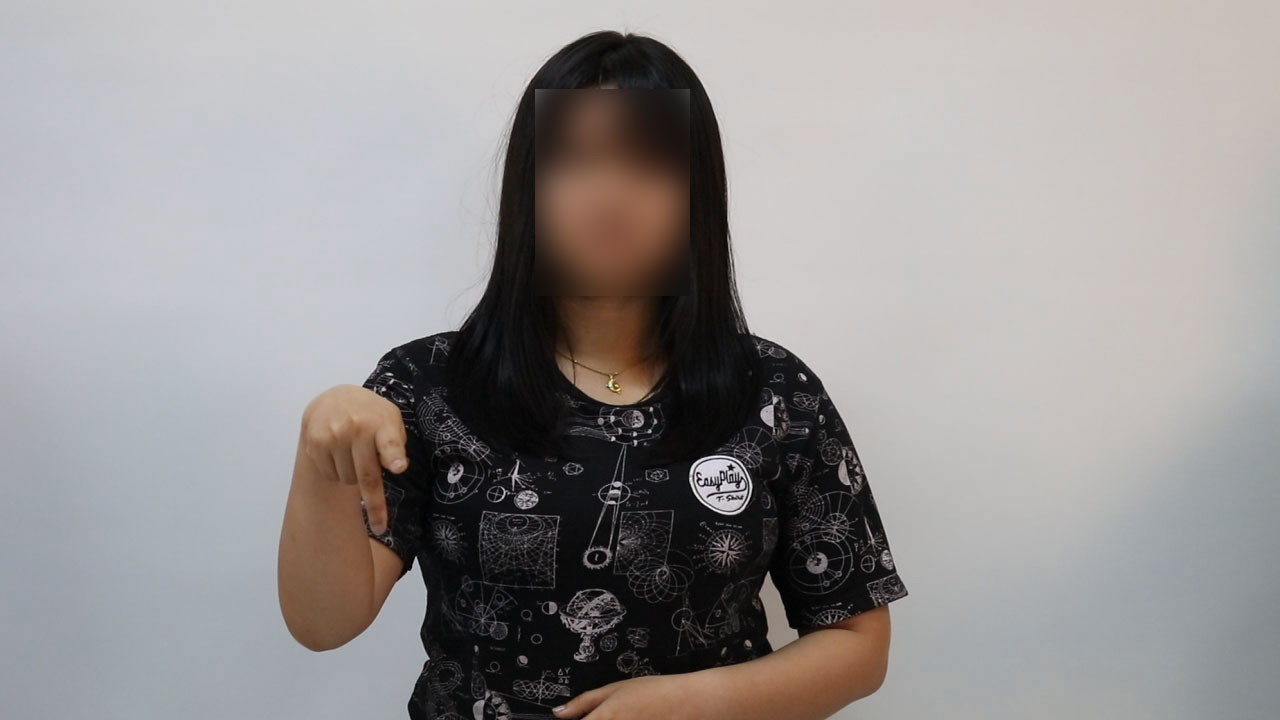por: (286, 367, 421, 548)
